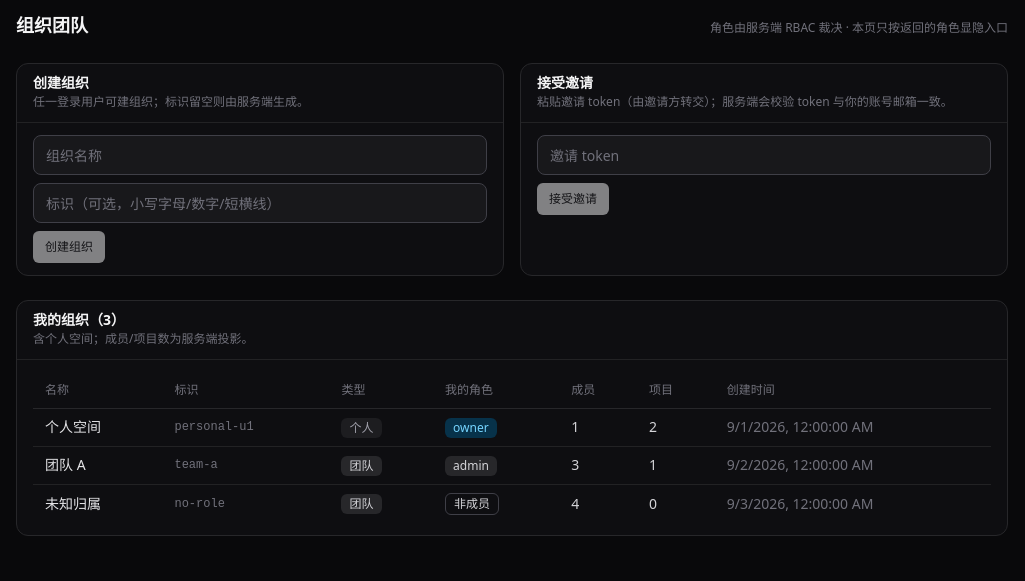
Test case: /organizations 接受邀请（token 走路径参数） › 邀请不存在（404 NOT_FOUND）：如实呈现服务端 message
Expected: the link "团队 A" is shown, [45,455,86,474]
Type "deadbeef" into the field labelled "邀请 token" at point(764, 155), box [537,135,991,175]
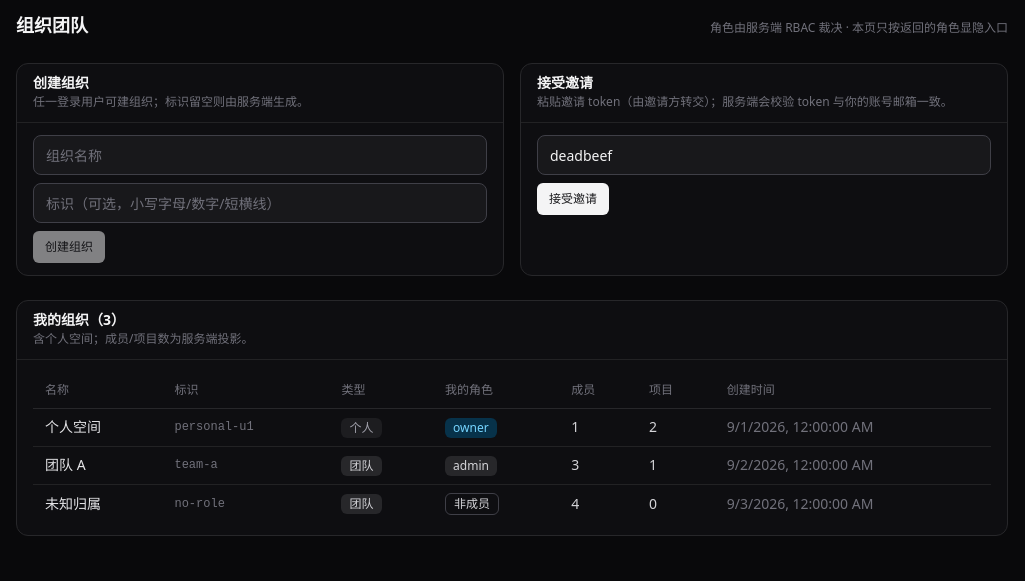
Click the button "接受邀请" at point(573, 199), box [537,183,609,215]
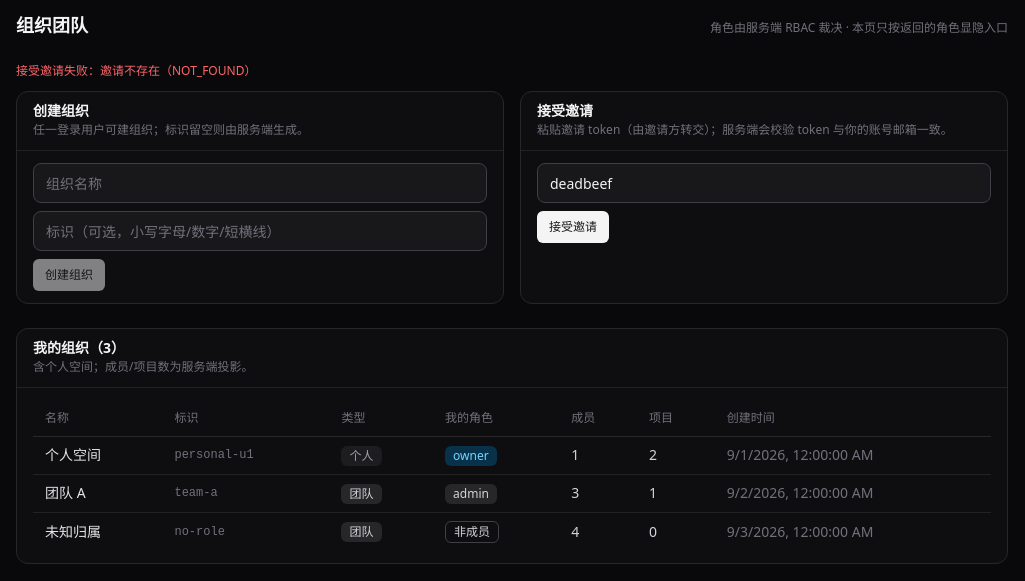
Now the message reads "接受邀请失败：邀请不存在（NOT_FOUND）", box [16,62,256,79]
